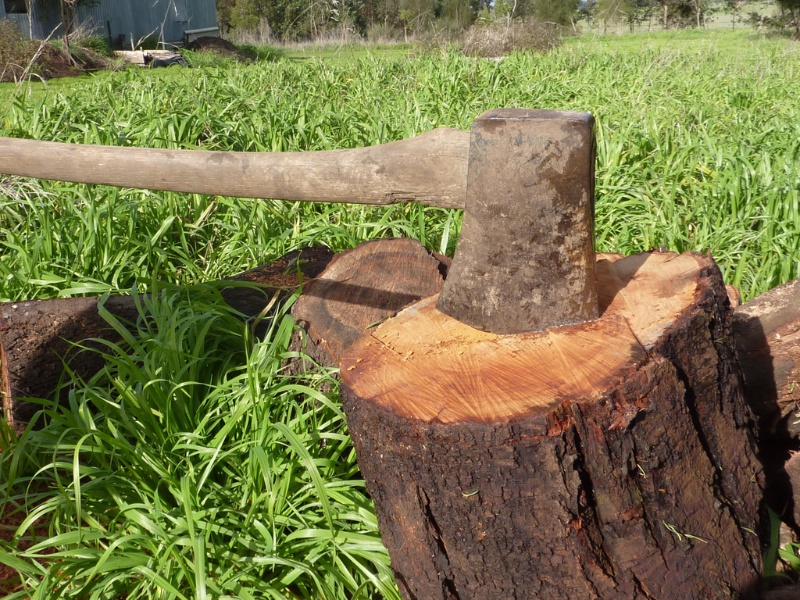axe: (207, 100, 615, 364)
